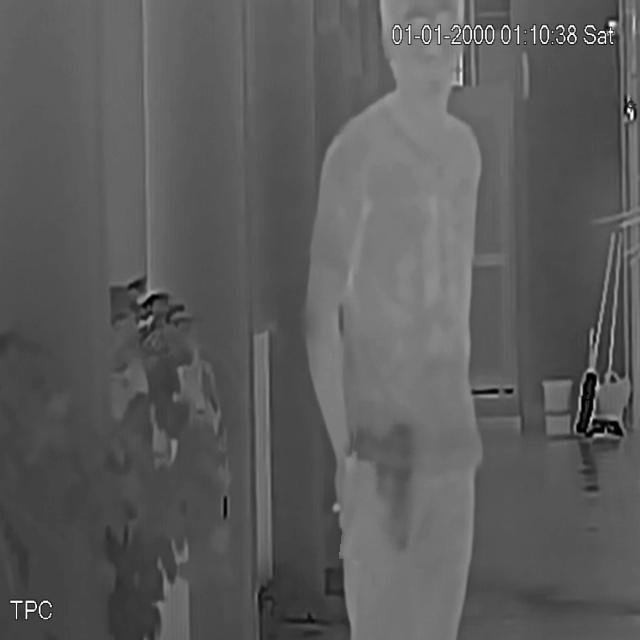Weapon: (344, 402, 448, 568)
